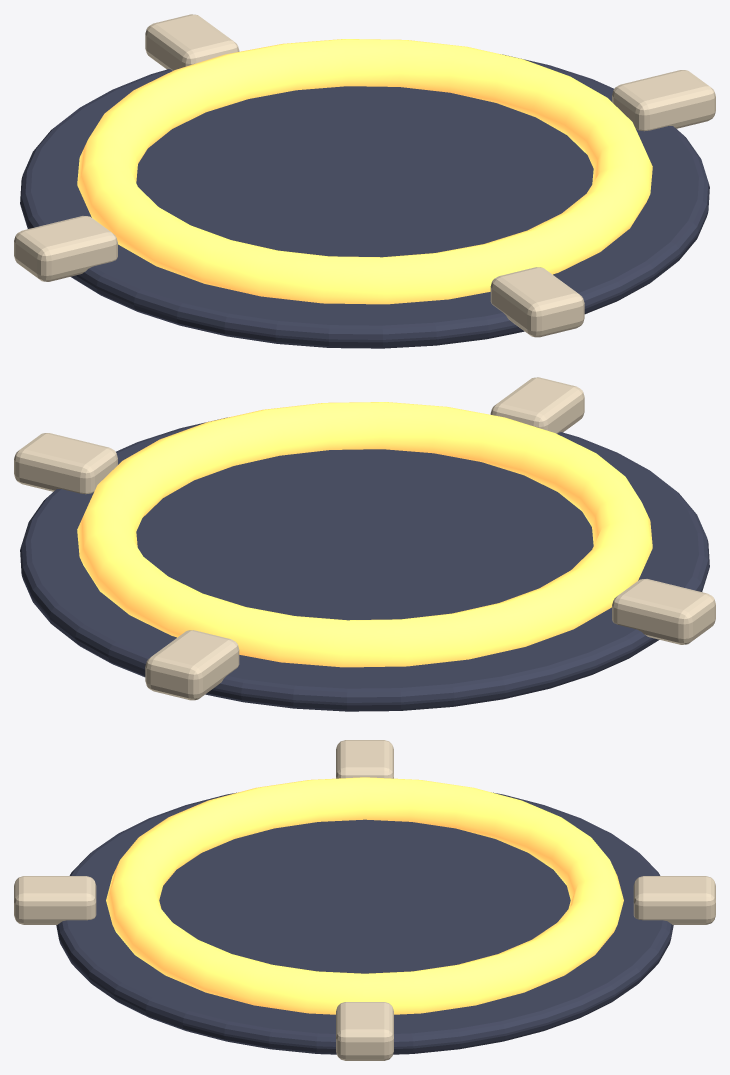
The model's file is inferno_goal.glb.
3 renders of one model, top to bottom at view 1: azimuth 30°, elevation 25°; view 2: azimuth 150°, elevation 25°; view 3: azimuth 270°, elevation 25°, orthographic. The views are drawn at different scales.
Parts seen in each view (by area): view 1: Batched V2 inferno dark, Batched V2 inferno glow, Batched V2 inferno ivory; view 2: Batched V2 inferno dark, Batched V2 inferno glow, Batched V2 inferno ivory; view 3: Batched V2 inferno dark, Batched V2 inferno glow, Batched V2 inferno ivory.
Part boxes in pixels (bbox=[...]): Batched V2 inferno dark: bbox=[20, 54, 709, 348]; Batched V2 inferno glow: bbox=[77, 39, 652, 304]; Batched V2 inferno ivory: bbox=[14, 14, 715, 337]; Batched V2 inferno dark: bbox=[20, 417, 709, 711]; Batched V2 inferno glow: bbox=[77, 402, 652, 667]; Batched V2 inferno ivory: bbox=[14, 377, 715, 700]; Batched V2 inferno dark: bbox=[56, 792, 673, 1054]; Batched V2 inferno glow: bbox=[106, 777, 623, 1014]; Batched V2 inferno ivory: bbox=[14, 740, 715, 1060].
Size of the model in its own units: 1.45 by 0.1175 by 1.45.
